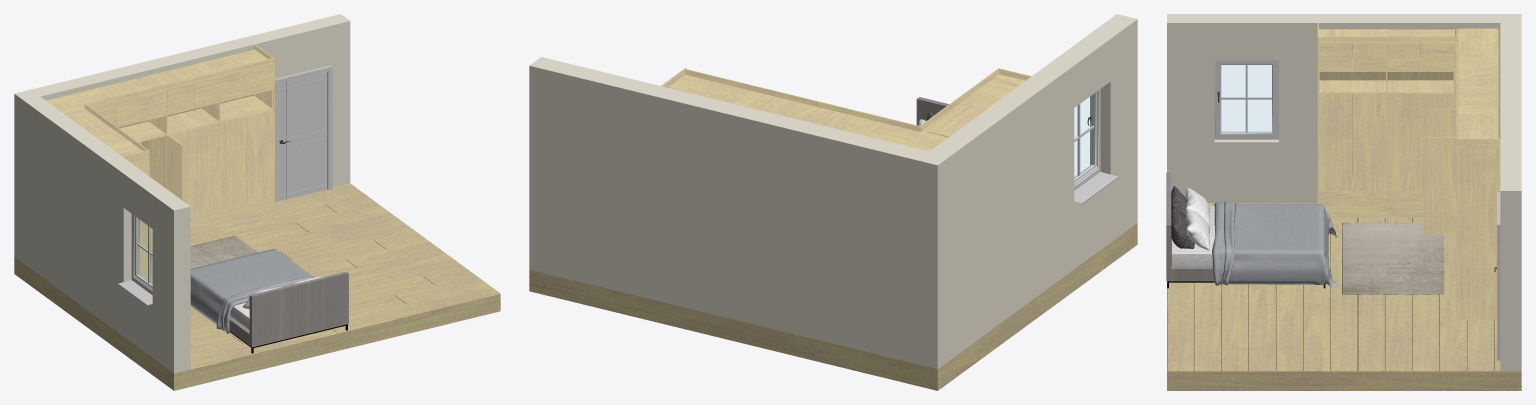
File: dressing_x5_no_uv1.glb
3 views of the same model, side by side, from view 1: azimuth 30°, elevation 25°; view 2: azimuth 150°, elevation 25°; view 3: azimuth 270°, elevation 25° (orthographic). The views are drawn at different scales.
Parts seen in each view (by area): view 1: wall_left, floor, dominant, bed, wall_right, secondary, door_on_wall, carpet, window_frame, door2; view 2: wall_right, wall_left, floor, secondary, dominant, window_frame, bed; view 3: floor, dominant, wall_left, bed, wall_right, secondary, carpet, door2, window_frame, tertiary, door1, door_on_wall.
Boxes of the visible parts, x1=… form: wall_left: x1=14, y1=89, x2=190, y2=373; floor: x1=14, y1=183, x2=500, y2=390; dominant: x1=64, y1=44, x2=274, y2=280; bed: x1=190, y1=248, x2=348, y2=353; wall_right: x1=31, y1=14, x2=350, y2=187; secondary: x1=46, y1=49, x2=272, y2=188; door_on_wall: x1=275, y1=65, x2=332, y2=202; carpet: x1=150, y1=235, x2=257, y2=283; window_frame: x1=118, y1=214, x2=152, y2=306; door2: x1=167, y1=135, x2=183, y2=200; wall_right: x1=529, y1=57, x2=928, y2=363; wall_left: x1=917, y1=14, x2=1137, y2=369; floor: x1=529, y1=223, x2=1137, y2=390; secondary: x1=667, y1=74, x2=1025, y2=151; dominant: x1=661, y1=68, x2=1031, y2=137; window_frame: x1=1074, y1=89, x2=1118, y2=204; bed: x1=916, y1=97, x2=948, y2=125; floor: x1=1167, y1=203, x2=1521, y2=390; dominant: x1=1317, y1=23, x2=1500, y2=319; wall_left: x1=1167, y1=14, x2=1521, y2=203; bed: x1=1166, y1=172, x2=1338, y2=288; wall_right: x1=1500, y1=23, x2=1521, y2=371; secondary: x1=1319, y1=29, x2=1498, y2=203; carpet: x1=1342, y1=222, x2=1444, y2=294; door2: x1=1424, y1=137, x2=1456, y2=234; window_frame: x1=1214, y1=60, x2=1278, y2=139; tertiary: x1=1319, y1=28, x2=1498, y2=176; door1: x1=1423, y1=109, x2=1456, y2=206; door_on_wall: x1=1494, y1=192, x2=1500, y2=360.
Bounding box in the file's own units: 60.01 × 31.13 × 50.05.
Materials: 11 (8 with a texture image).
